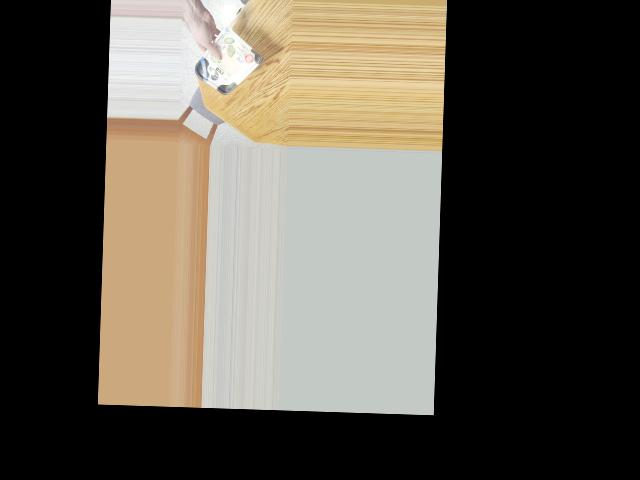cheese: (199, 37, 255, 96)
